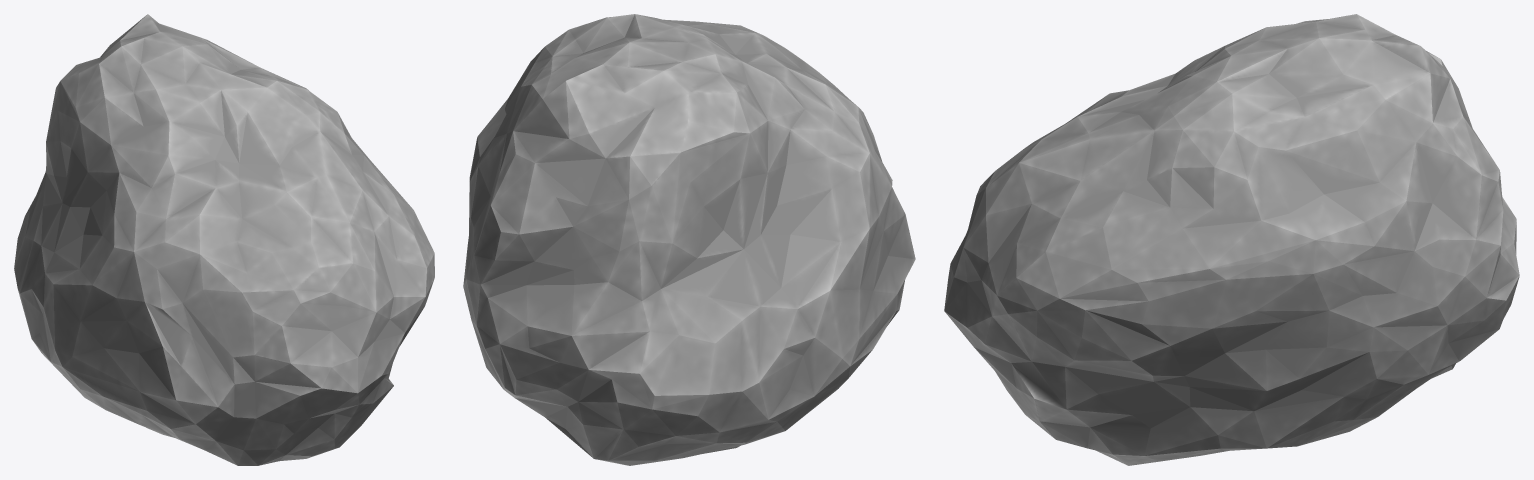
File: stone3.glb
3 views of the same model, side by side, from view 1: azimuth 30°, elevation 25°; view 2: azimuth 150°, elevation 25°; view 3: azimuth 270°, elevation 25° (orthographic). The views are drawn at different scales.
Visible parts, largest first — view 1: R4; view 2: R4; view 3: R4.
Part boxes in pixels (bbox=[...]): R4: bbox=[14, 14, 434, 465]; R4: bbox=[463, 14, 915, 465]; R4: bbox=[944, 14, 1519, 465].
Bounding box in the file's own units: 0.0148 × 0.0167 × 0.0211.
1 material, 1 textured.
